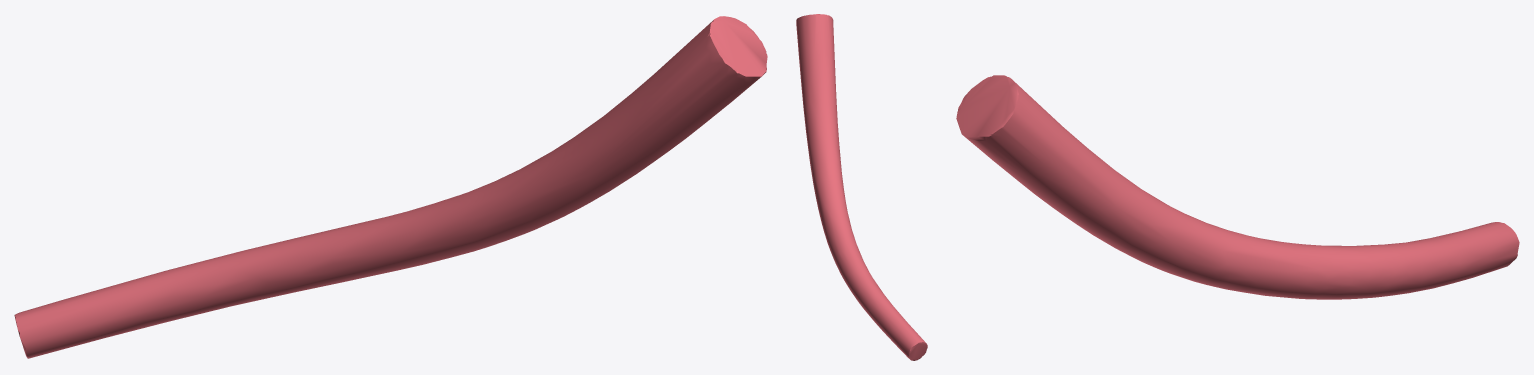
Rendered from fma68738_fj3013.glb.
3 views of the same model, side by side, from view 1: azimuth 30°, elevation 25°; view 2: azimuth 150°, elevation 25°; view 3: azimuth 270°, elevation 25° (orthographic). The views are drawn at different scales.
Parts seen in each view (by area): view 1: FMA68738_FJ3013; view 2: FMA68738_FJ3013; view 3: FMA68738_FJ3013.
Boxes of the visible parts, x1,y1,x2,y2 form: FMA68738_FJ3013: (14, 16, 767, 358); FMA68738_FJ3013: (796, 14, 927, 360); FMA68738_FJ3013: (956, 75, 1519, 299).
Size of the model in its own units: 0.0294 by 0.0228 by 0.0286.
